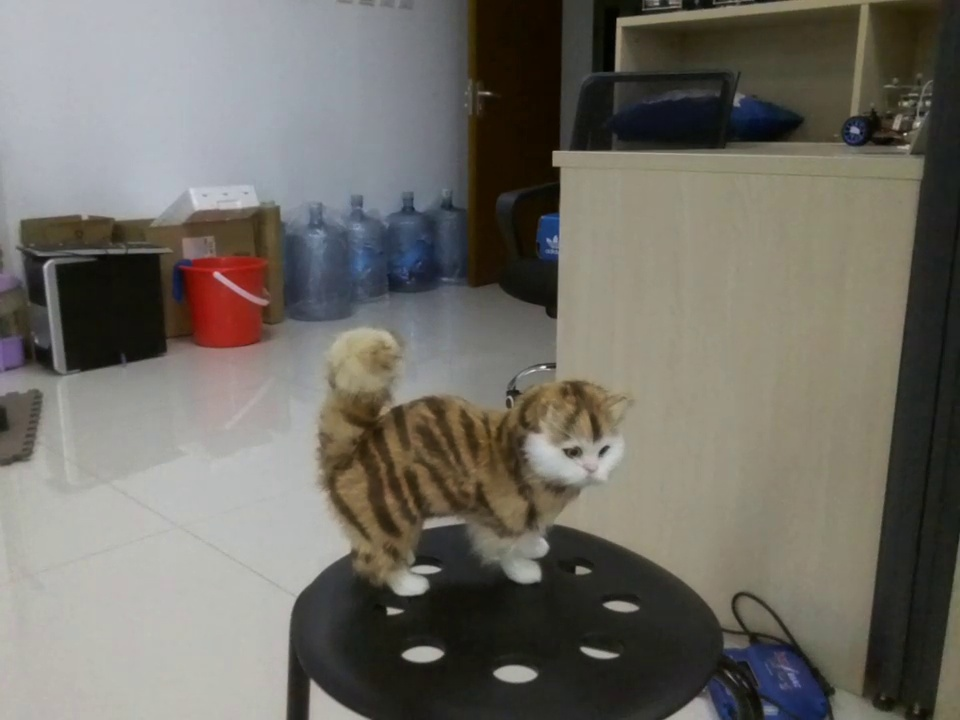cat: (312, 326, 631, 600)
